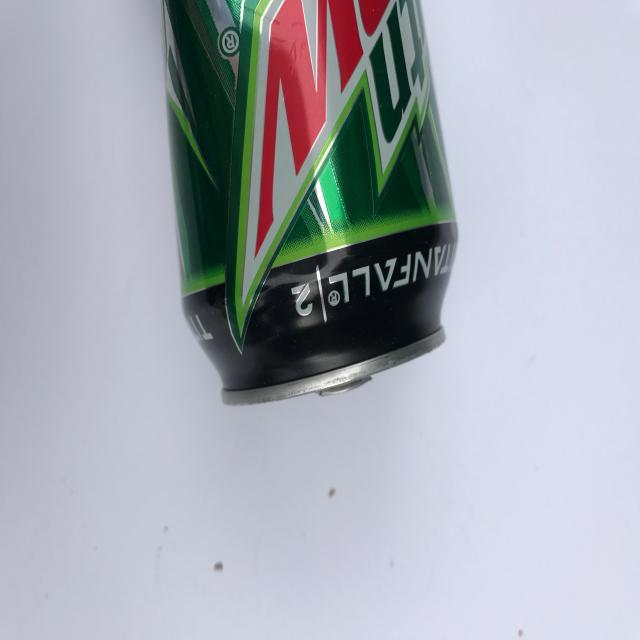metal: (159, 1, 459, 406)
